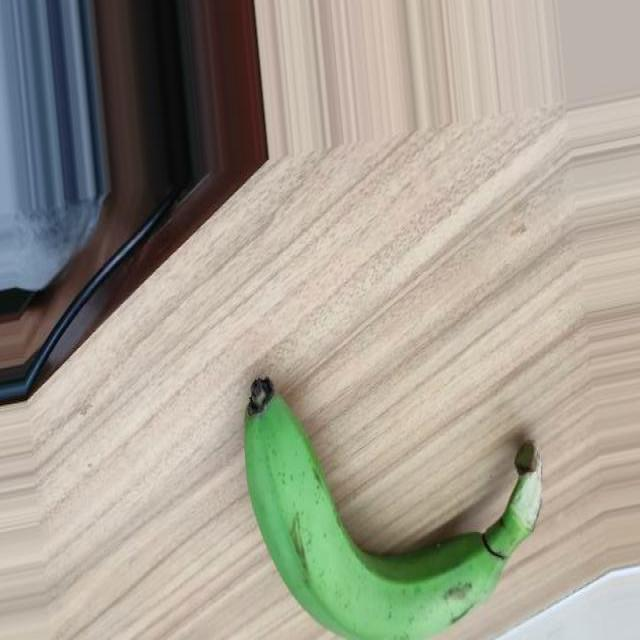Unripe: (242, 373, 545, 640)
